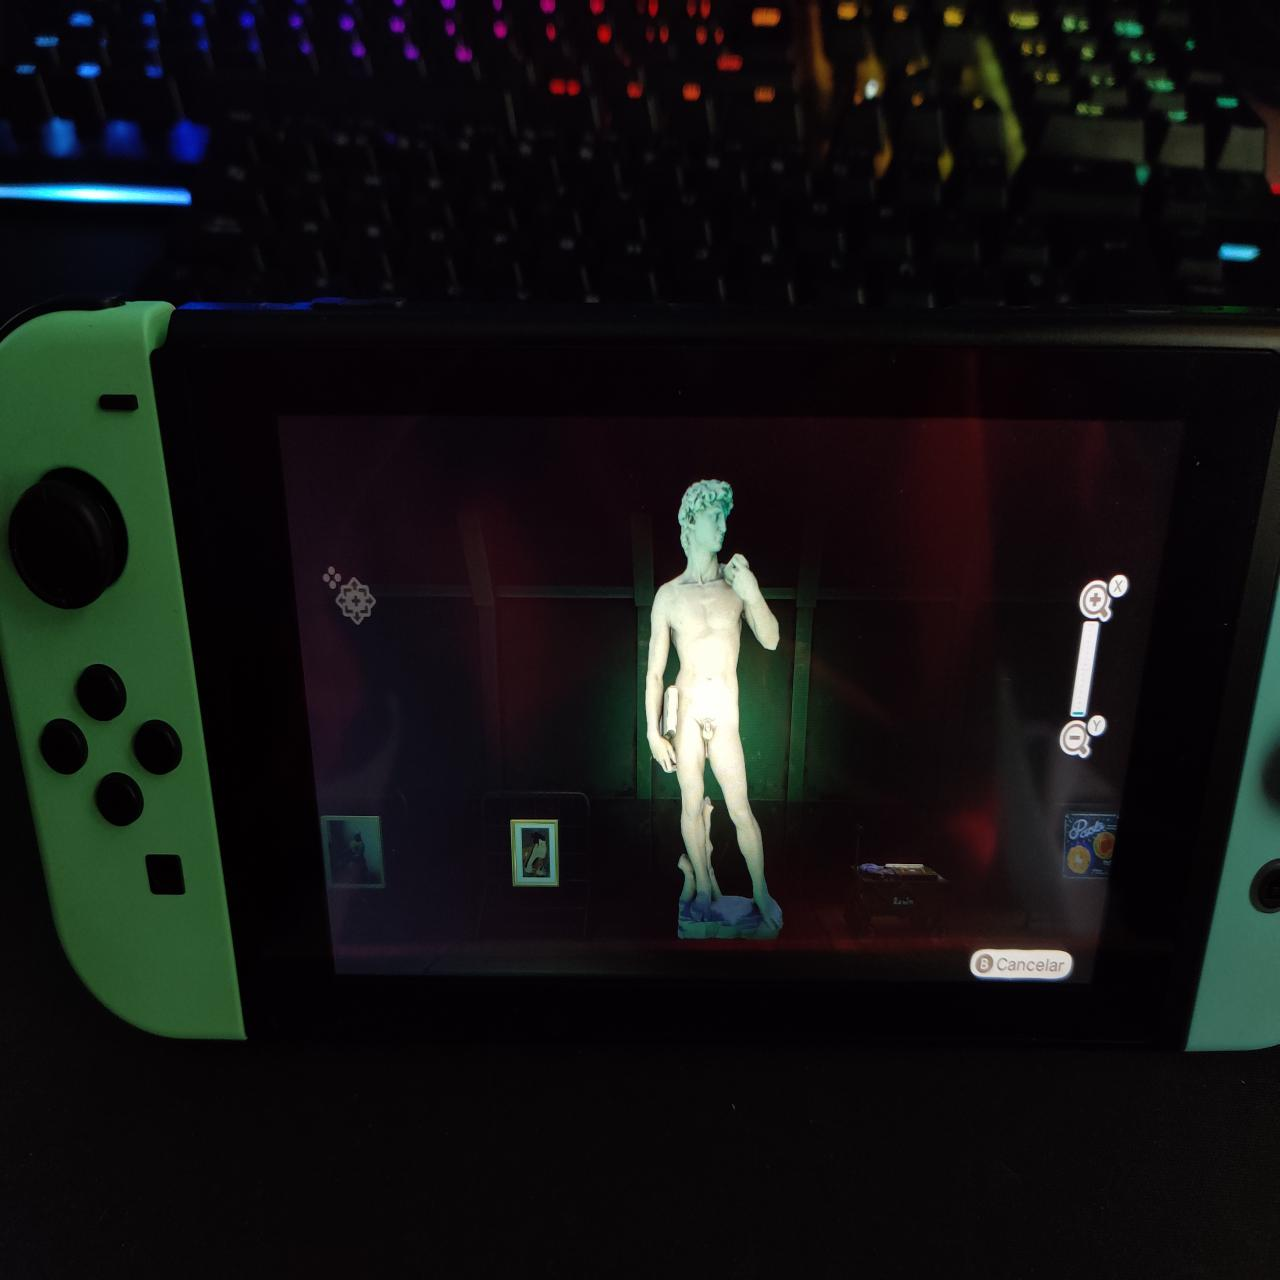DavidFake: (646, 477, 795, 944)
OotaniOnijiFake: (524, 829, 552, 880)
